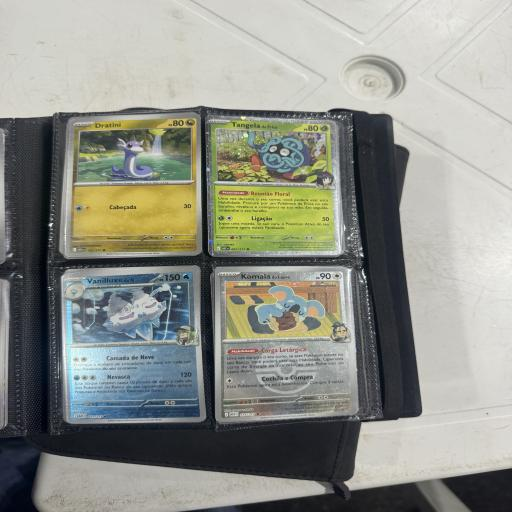card: (61, 267, 206, 426), (214, 265, 358, 422), (65, 112, 203, 259), (206, 113, 341, 257)
